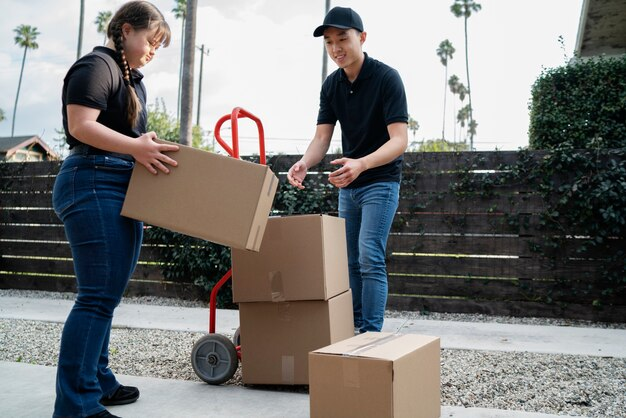DeliveryBox: (112, 125, 289, 254), (293, 322, 467, 418), (226, 293, 368, 391), (214, 214, 358, 305)
Person: (51, 3, 161, 418), (286, 8, 419, 333)
